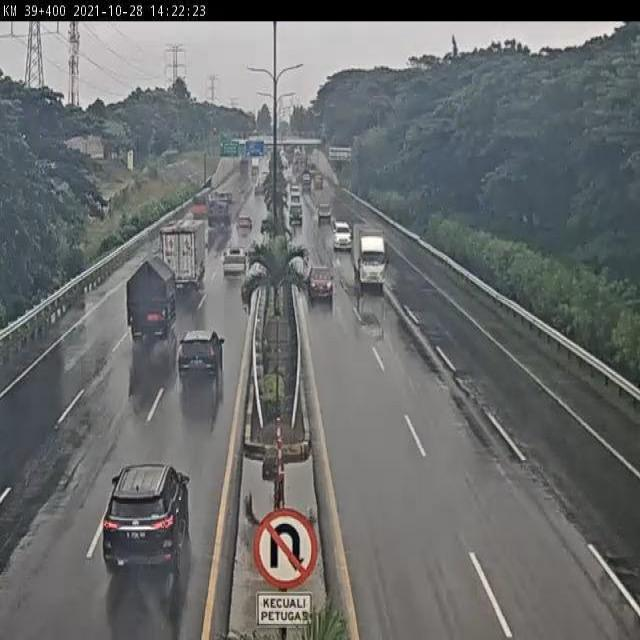car: (103, 461, 189, 580), (178, 328, 226, 381), (219, 243, 249, 281), (306, 264, 335, 300), (331, 218, 355, 250), (236, 213, 253, 232)
truck-l-: (155, 225, 200, 296)
truck-m-: (127, 255, 177, 341)
truck-s-: (352, 226, 389, 290)
